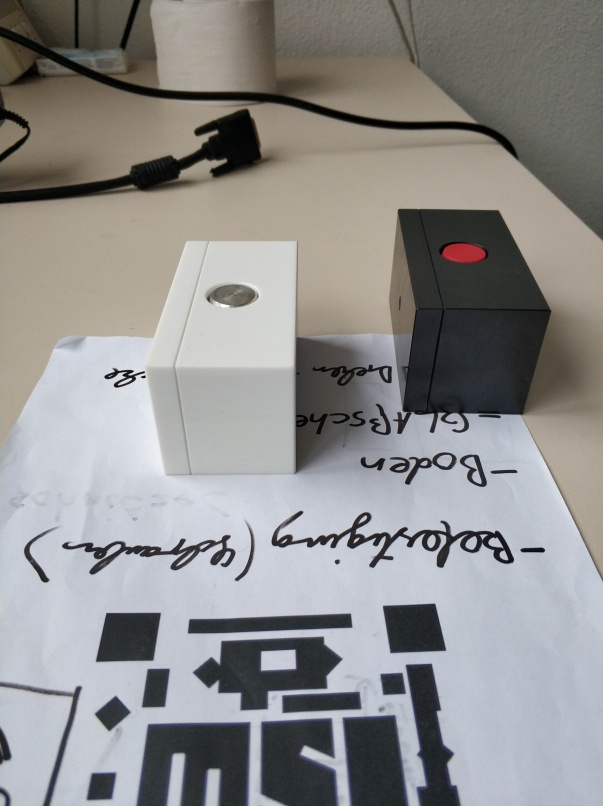black+black+red: (380, 204, 554, 415)
white+white+silver: (142, 238, 301, 477)
